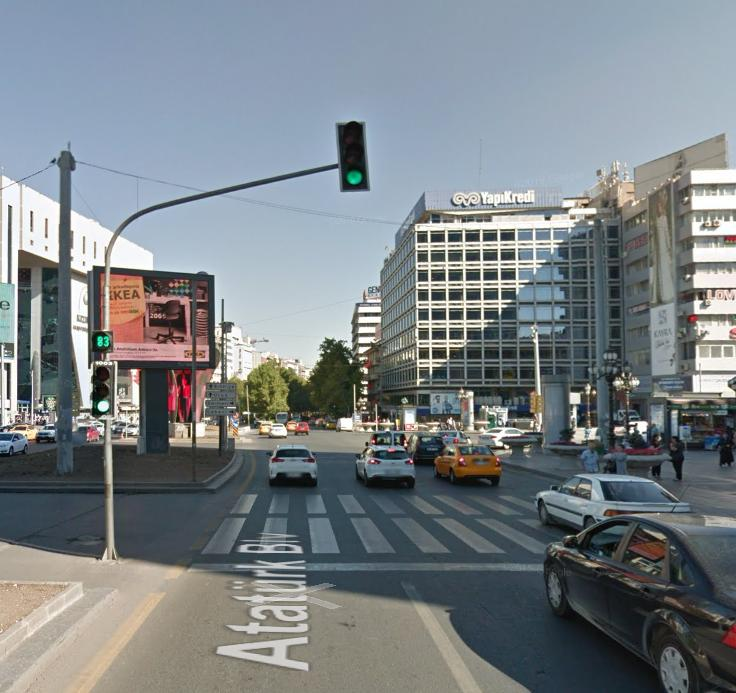greenlight: (337, 122, 369, 190), (94, 363, 117, 418)
